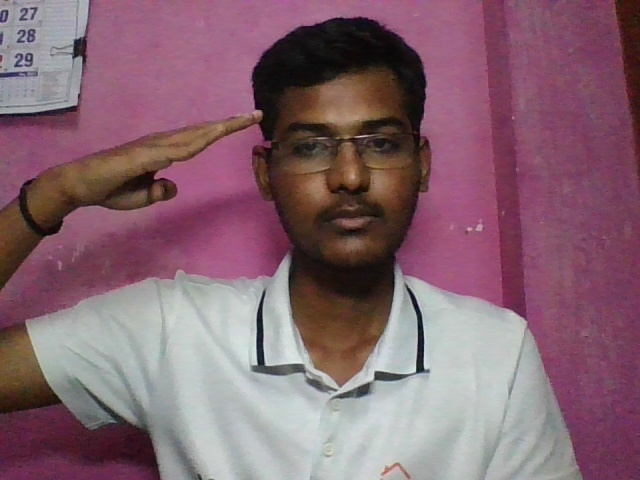Hello: (31, 94, 294, 236)
